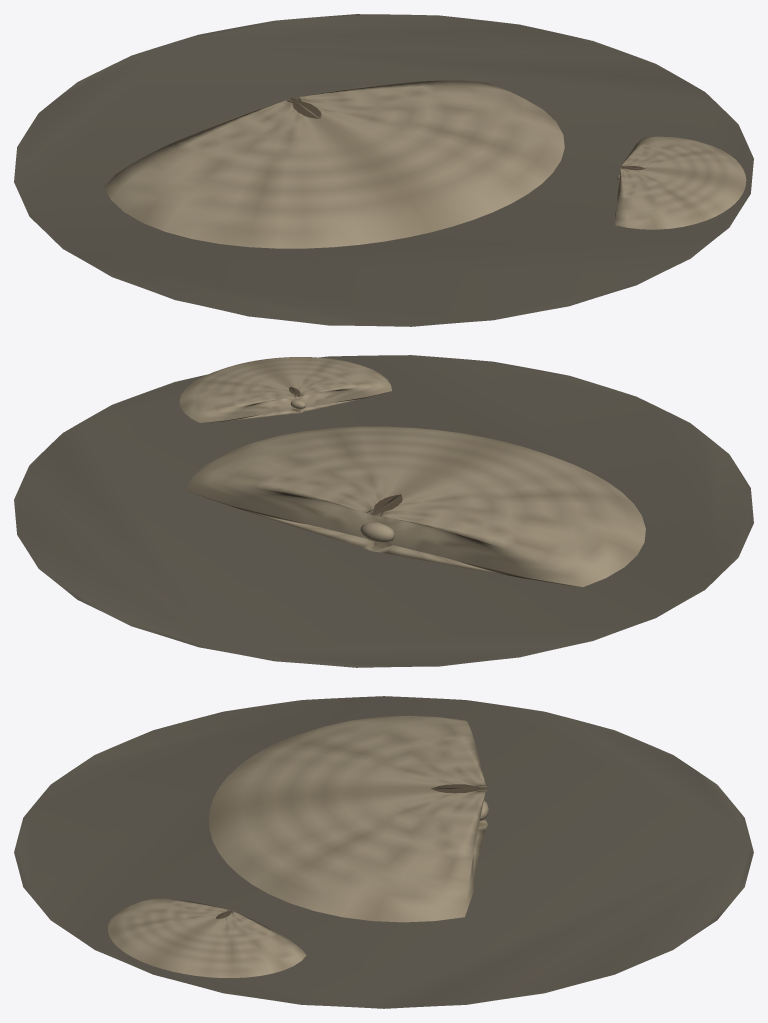
Rendered from RafinesquinaAlternata.fbx.
3 views of the same model, one above another, from view 1: azimuth 30°, elevation 25°; view 2: azimuth 150°, elevation 25°; view 3: azimuth 270°, elevation 25° (orthographic).
Visible parts, largest first — view 1: RafinesquinaAlternata; view 2: RafinesquinaAlternata; view 3: RafinesquinaAlternata.
Boxes of the visible parts, bbox=[...] form: RafinesquinaAlternata: bbox=[14, 14, 753, 326]; RafinesquinaAlternata: bbox=[14, 355, 753, 667]; RafinesquinaAlternata: bbox=[14, 696, 753, 1008].
Size of the model in its own units: 1.9 by 0.125 by 1.9.
